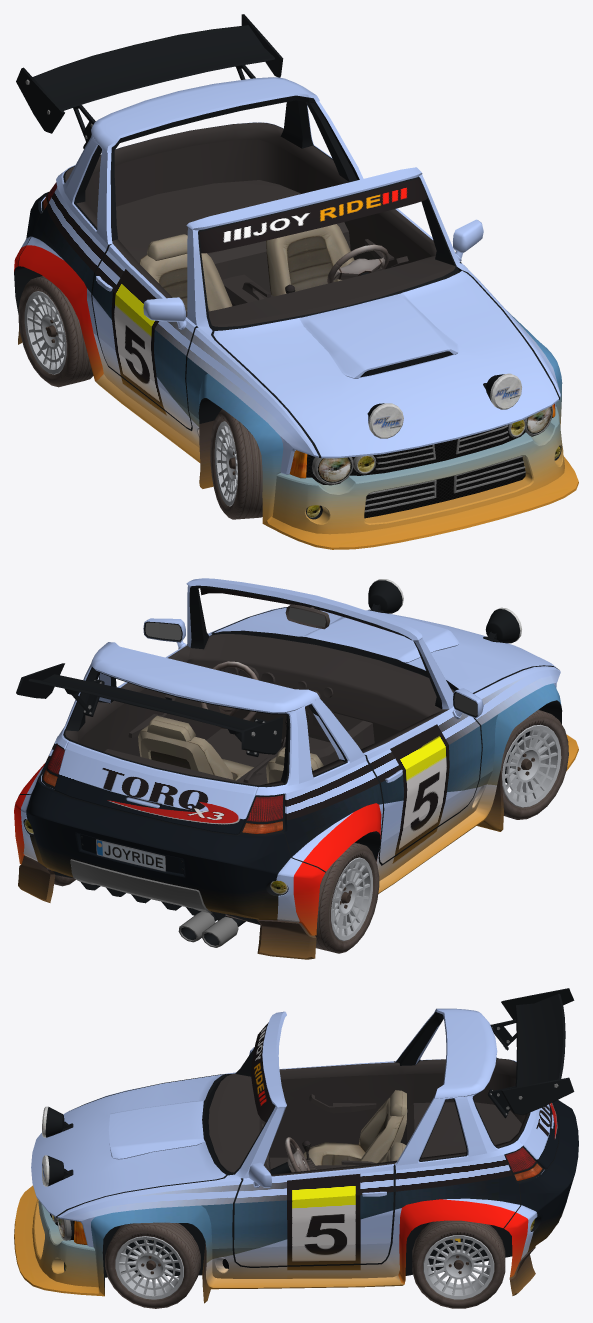
File: tunercar3.glb
3 views of the same model, one above another, from view 1: azimuth 30°, elevation 25°; view 2: azimuth 150°, elevation 25°; view 3: azimuth 270°, elevation 25° (orthographic). The views are drawn at different scales.
Parts seen in each view (by area): view 1: node_id1025, node_id1017, node_id933, node_id1015, node_id1029, node_id942, node_id1019, node_id992, node_id989, node_id938, node_id996, node_id985 (+9 smaller); view 2: node_id1025, node_id1017, node_id1015, node_id933, node_id985, node_id942, node_id1019, node_id992, node_id996, node_id987, node_id967, node_id994 (+8 smaller); view 3: node_id1025, node_id1017, node_id933, node_id1015, node_id999, node_id1006, node_id938, node_id1010, node_id1003, node_id1001, node_id1008, node_id945 (+5 smaller).
Part boxes in pixels (bbox=[...]): node_id1025: bbox=[14, 77, 578, 549]; node_id1017: bbox=[65, 122, 455, 326]; node_id933: bbox=[16, 14, 283, 148]; node_id1015: bbox=[14, 95, 561, 519]; node_id1029: bbox=[306, 417, 552, 518]; node_id942: bbox=[266, 224, 354, 296]; node_id1019: bbox=[311, 406, 552, 512]; node_id992: bbox=[24, 291, 66, 374]; node_id989: bbox=[218, 409, 262, 519]; node_id938: bbox=[139, 253, 232, 311]; node_id996: bbox=[21, 276, 93, 387]; node_id985: bbox=[214, 421, 237, 506]; node_id1025: bbox=[14, 578, 578, 959]; node_id1017: bbox=[65, 634, 454, 785]; node_id1015: bbox=[19, 585, 562, 924]; node_id933: bbox=[16, 663, 283, 756]; node_id985: bbox=[502, 724, 561, 807]; node_id942: bbox=[138, 715, 253, 780]; node_id1019: bbox=[70, 859, 212, 913]; node_id992: bbox=[331, 857, 372, 941]; node_id996: bbox=[315, 842, 376, 953]; node_id987: bbox=[500, 718, 568, 815]; node_id967: bbox=[178, 911, 238, 947]; node_id994: bbox=[329, 850, 379, 949]; node_id1025: bbox=[14, 1008, 578, 1303]; node_id1017: bbox=[208, 1058, 528, 1176]; node_id933: bbox=[487, 988, 574, 1118]; node_id1015: bbox=[56, 1012, 559, 1293]; node_id999: bbox=[423, 1235, 494, 1299]; node_id1006: bbox=[115, 1236, 183, 1299]; node_id938: bbox=[303, 1097, 407, 1165]; node_id1010: bbox=[105, 1222, 200, 1308]; node_id1003: bbox=[412, 1220, 505, 1308]; node_id1001: bbox=[417, 1230, 500, 1306]; node_id1008: bbox=[108, 1231, 189, 1306]; node_id945: bbox=[285, 1137, 310, 1172].
Size of the model in its own units: 0.512 by 0.3761 by 0.8963.
54 materials, 54 textured.
